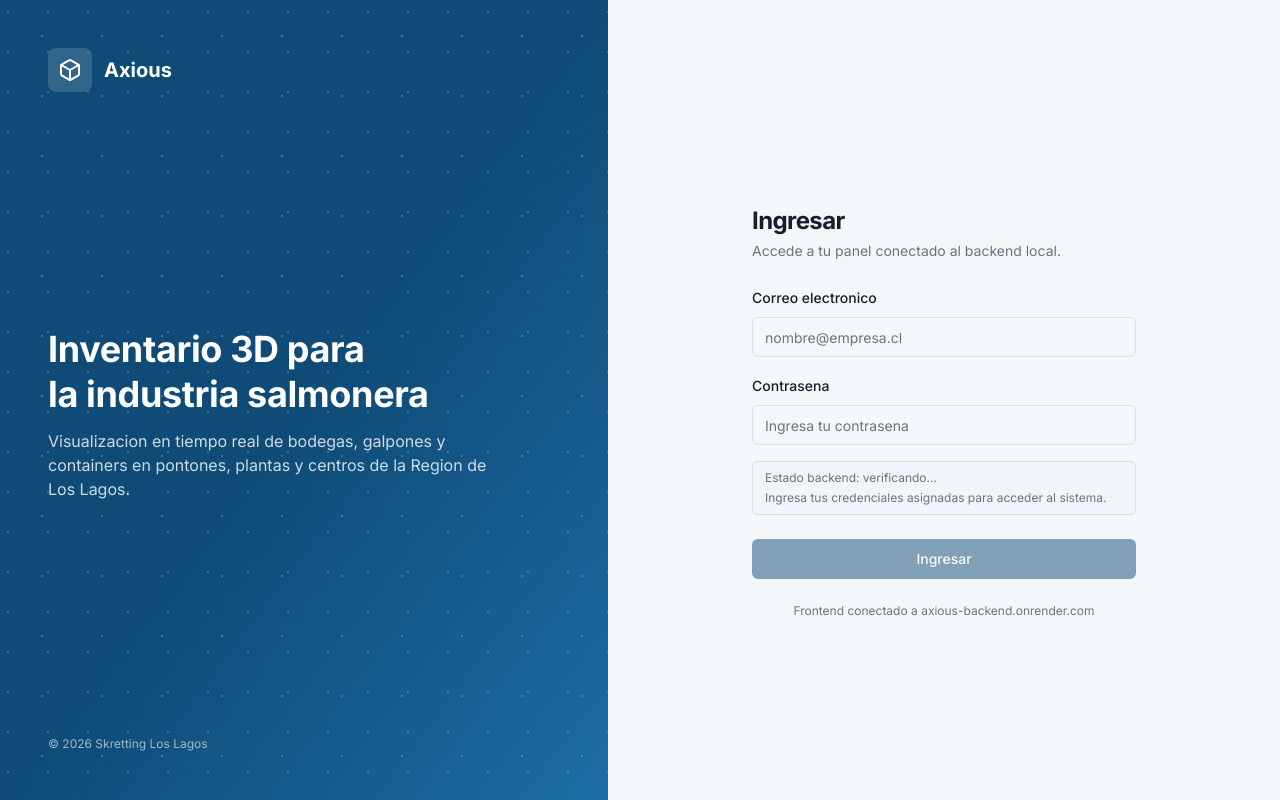
Scenario: Login › keeps submit disabled until the user enters credentials
expect the button "Ingresar" is disabled: met, box [752,539,1136,579]
Type "usuario@empresa.cl" into the field labelled "Correo electronico" at (944, 337), box [752,317,1136,357]
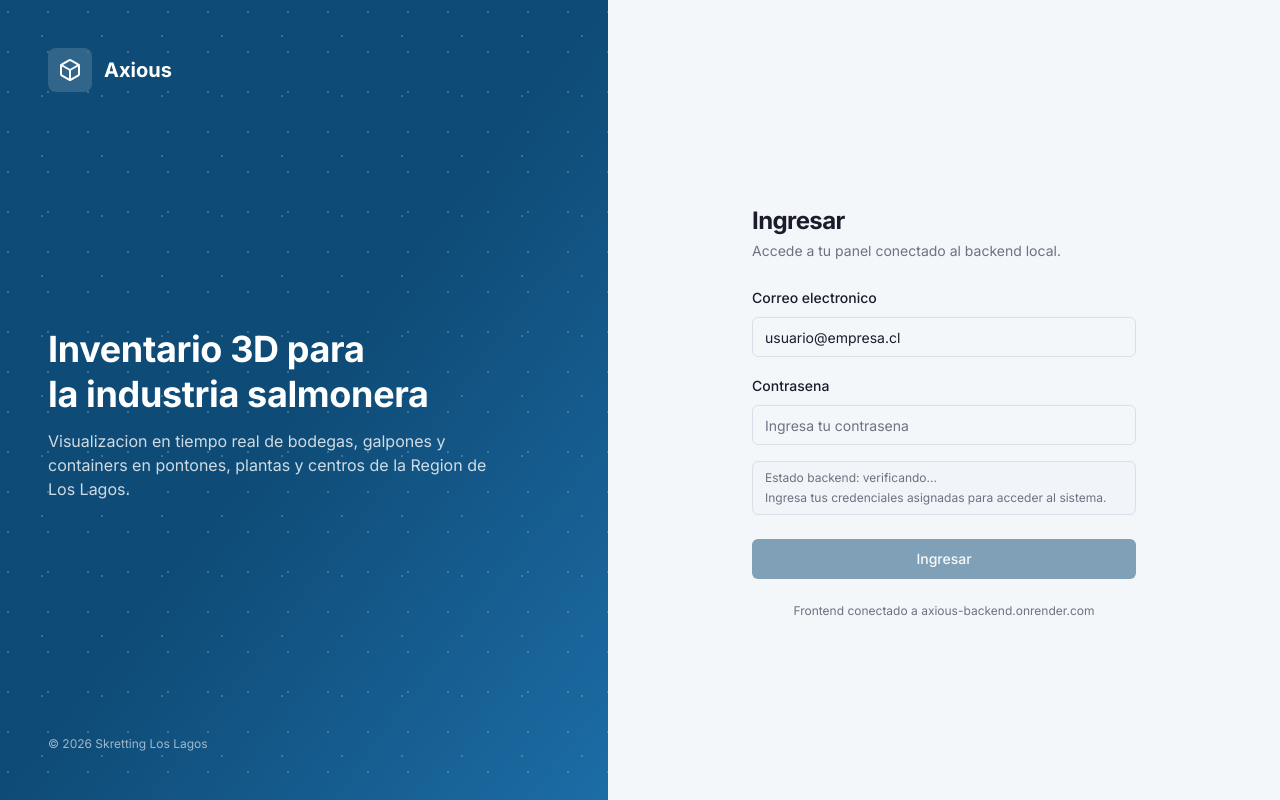
Type "secreto" into the password field labelled "Contrasena" at (944, 425), box [752,405,1136,445]
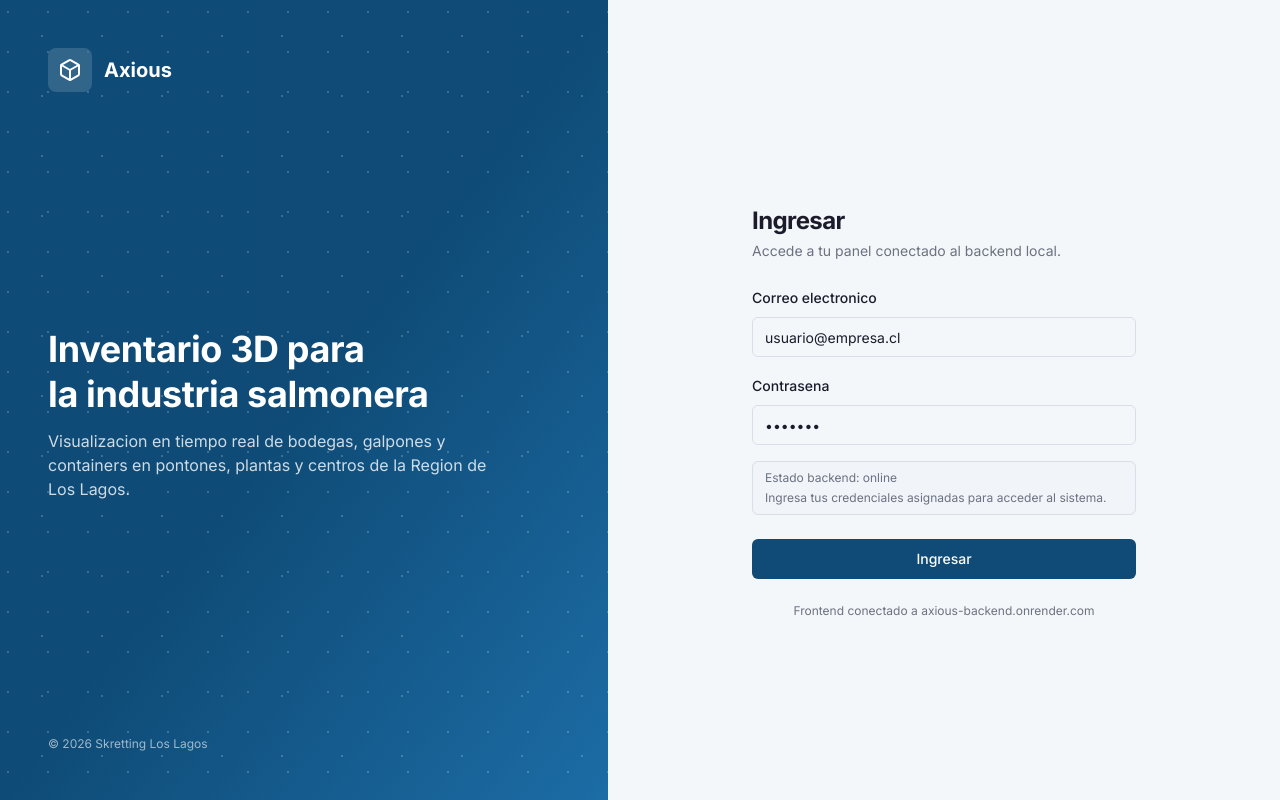
expect the button "Ingresar" is enabled: met, box [752,539,1136,579]
